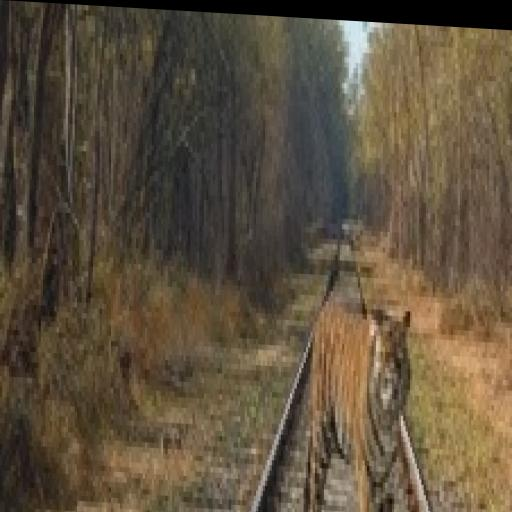Tiger-cow: (300, 282, 424, 512)
